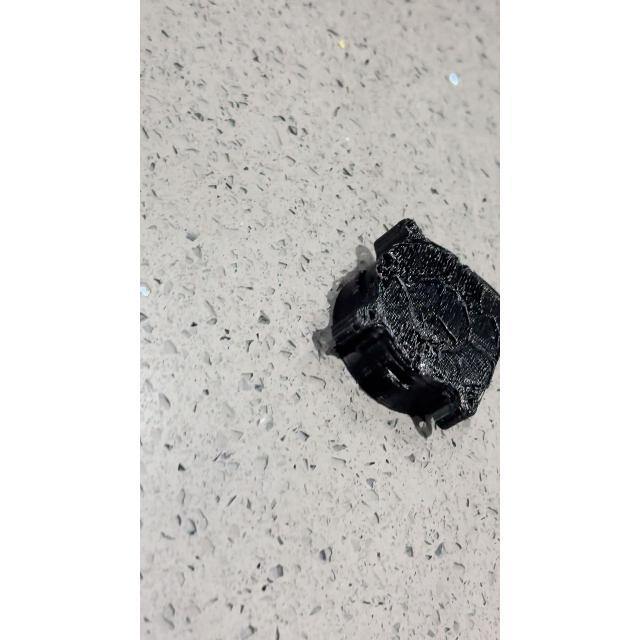Pieza3: (316, 212, 500, 446)
